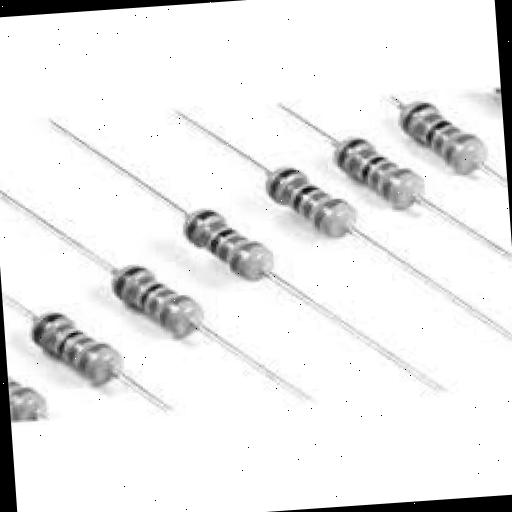RESISTOR: (56, 244, 228, 366), (214, 138, 364, 261), (130, 208, 282, 327), (357, 94, 498, 218), (10, 290, 152, 412), (302, 122, 416, 240)
